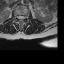CCS_normal: (20, 12, 22, 23)
LFS_normal: (24, 13, 27, 20)
LLS_normal: (22, 13, 24, 22)
RFS_normal: (15, 12, 17, 19)
RLS_normal: (17, 13, 20, 21)
